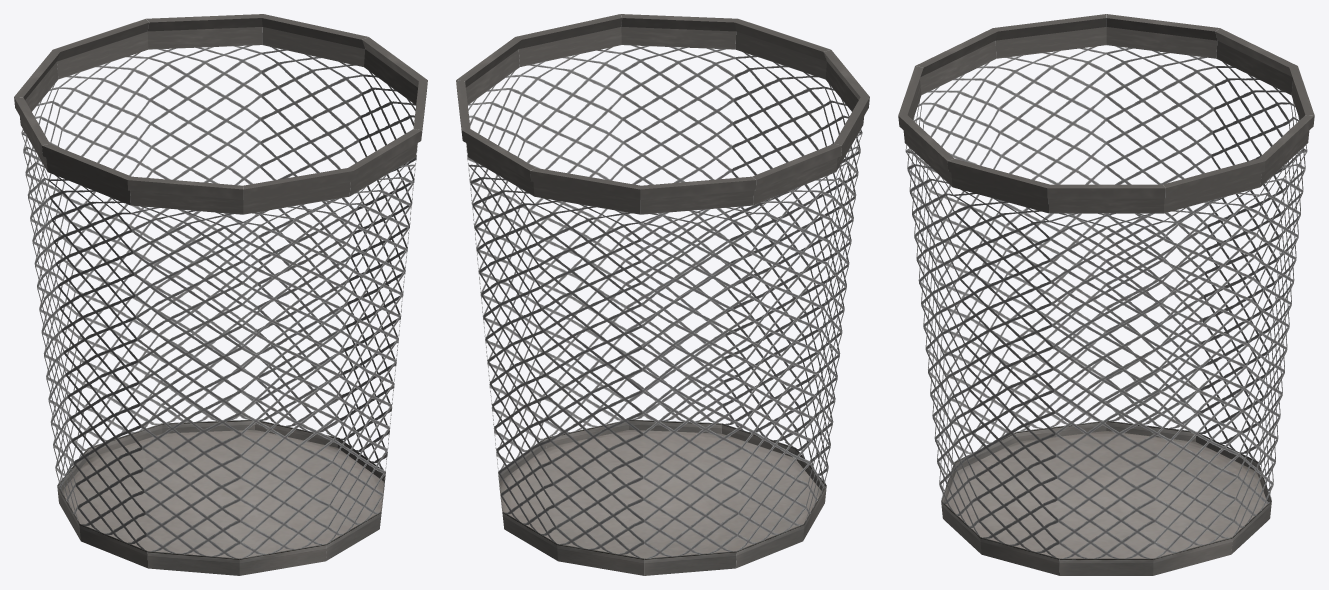
3 views of the same model, side by side, from view 1: azimuth 30°, elevation 25°; view 2: azimuth 150°, elevation 25°; view 3: azimuth 270°, elevation 25° (orthographic).
Parts seen in each view (by area): view 1: Trash_Can; view 2: Trash_Can; view 3: Trash_Can.
Part boxes in pixels (x1,y1,x2,y2): Trash_Can: [14, 14, 427, 575]; Trash_Can: [456, 14, 869, 575]; Trash_Can: [898, 14, 1314, 575].
Size of the model in its own units: 0.3878 by 0.4214 by 0.3917.
1 material, 1 textured.
